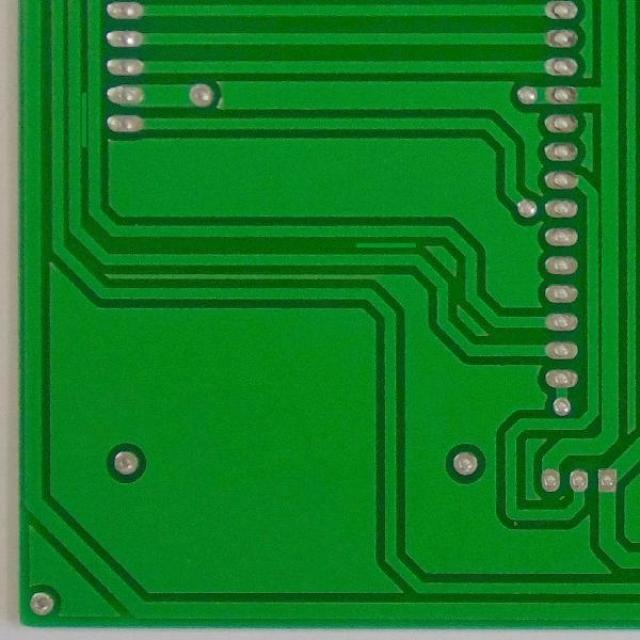Spurious_Cooper: (352, 240, 419, 250), (78, 90, 88, 150)
